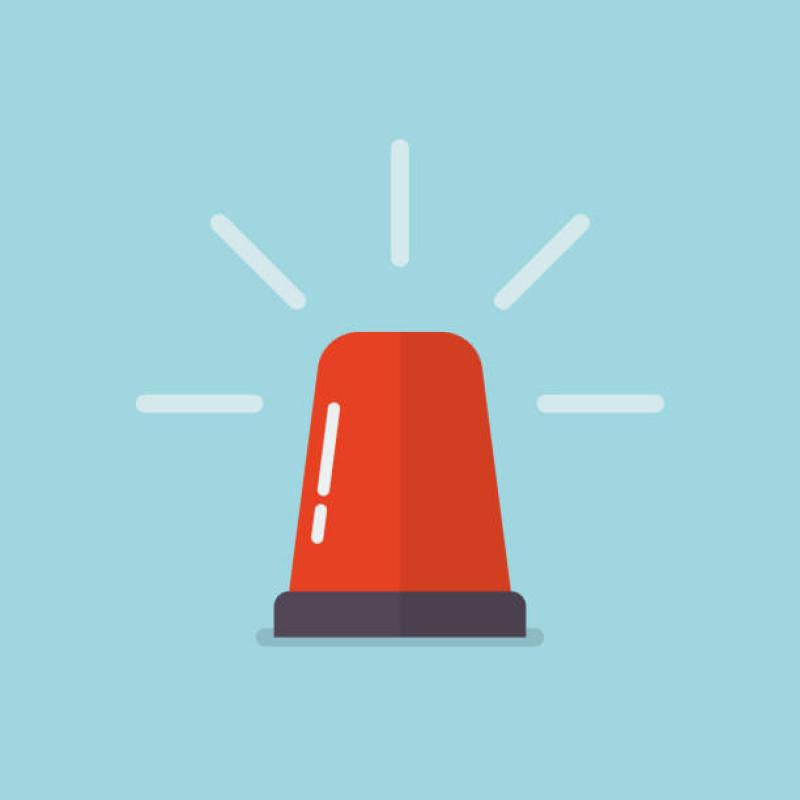AmbulanceSiren: (210, 322, 560, 682)
